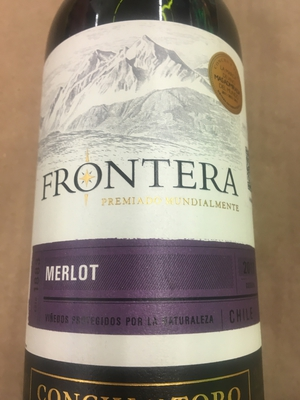frontera merlot: (24, 4, 259, 400)
